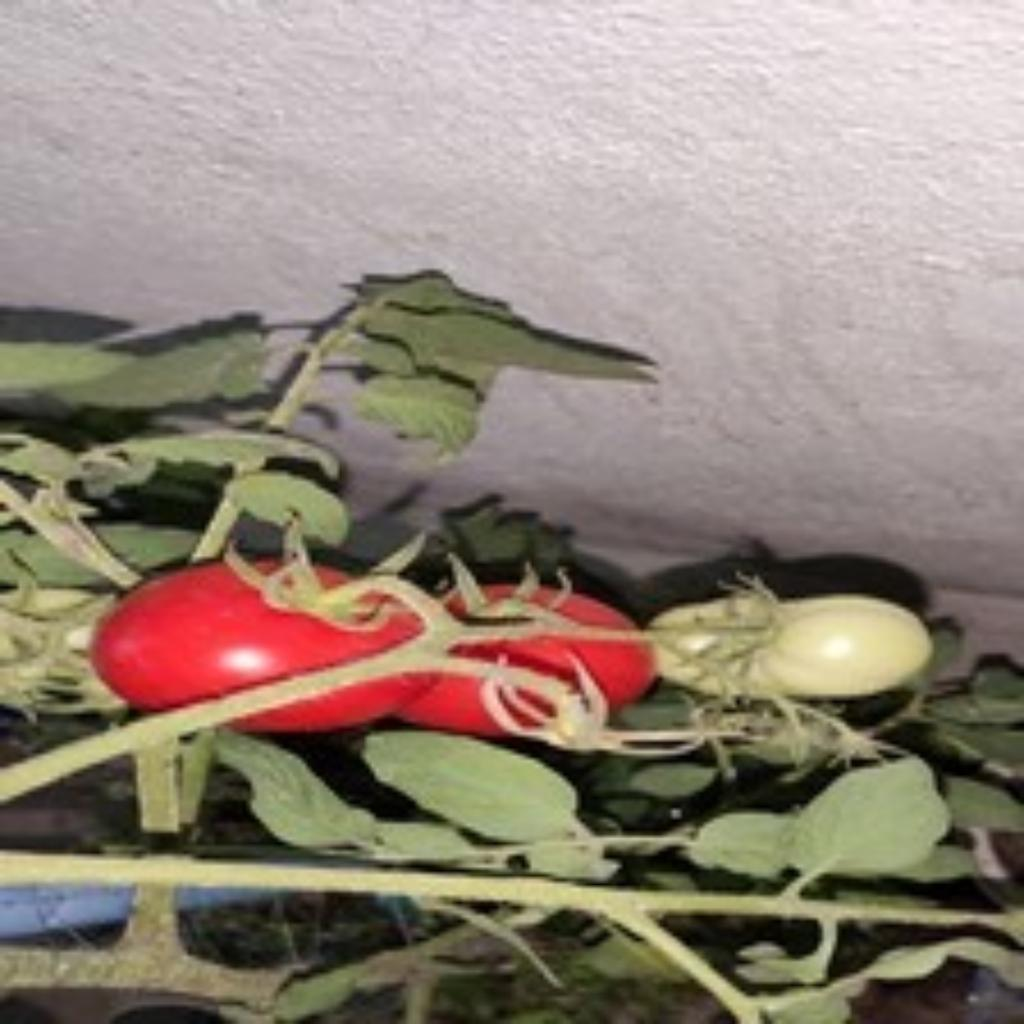tomato: (92, 562, 418, 711)
